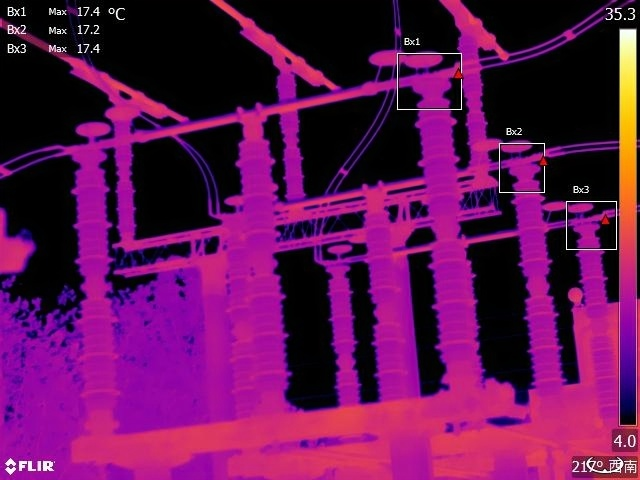post insulator: (411, 95, 485, 370), (70, 166, 126, 416), (239, 133, 290, 402), (513, 181, 568, 386), (363, 210, 413, 403), (575, 225, 619, 426), (220, 220, 255, 415), (324, 267, 363, 407), (276, 70, 310, 198), (463, 69, 493, 165), (114, 146, 140, 238)
switch: (71, 59, 453, 157), (326, 205, 598, 265), (259, 157, 532, 214)
